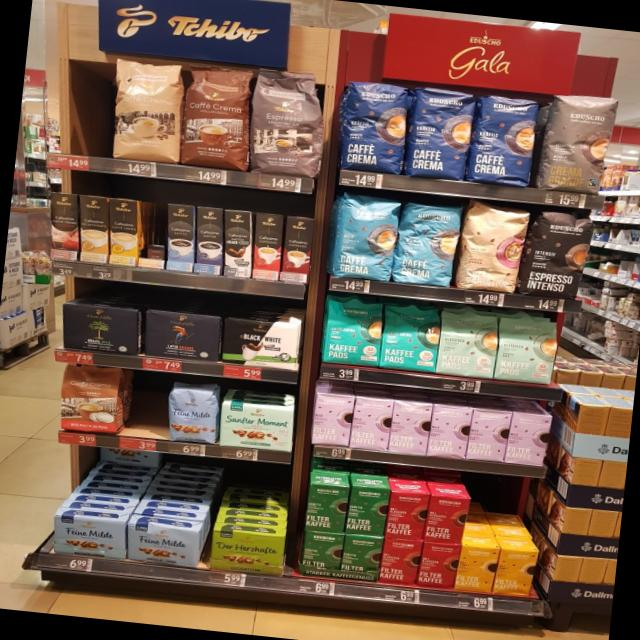BM Gemahlen: (219, 314, 303, 372), (57, 302, 143, 356)
CC Mild: (103, 55, 191, 167)
CC Vollmundig: (54, 362, 130, 436)
CC Vollmundig 36 Pads: (173, 60, 262, 174)
Empty Shelf: (122, 378, 174, 439), (137, 201, 166, 269)
Espresso M Art: (242, 66, 334, 182)
FM Bohne: (163, 379, 224, 446)
FM Gemahlen: (121, 520, 203, 568), (49, 512, 130, 560)
Herzhatfe Mundig: (207, 526, 289, 578)
LG Gemahlen: (138, 307, 225, 363)
SM Gemahlen: (217, 400, 297, 452)
Simo CC Colombia: (48, 190, 80, 259)
Simo CCMild bigpack: (108, 197, 139, 266)
Simo Decaff: (78, 193, 108, 262)
Simo Es Elegant: (249, 210, 286, 280)
Simo Es Kraft: (278, 214, 314, 284)
Simo Kaffee BW: (222, 208, 253, 278)
Simo Kaffee Kraft: (193, 204, 224, 276)
Simo Kaffee Mild: (165, 202, 196, 273)
